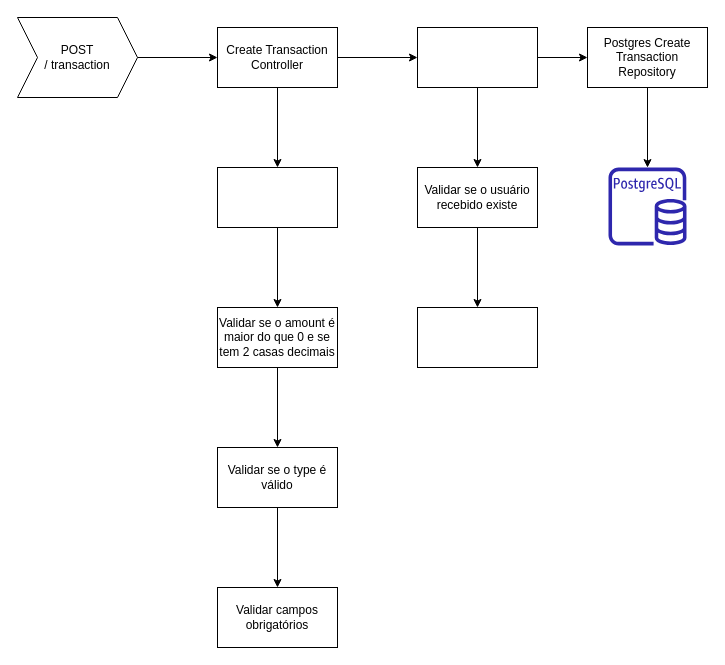
This 725x665 diagram has some shape labels left out. The box of each missing label's shape, as (x1, y1, x2, y2) in pixels:
Create Transaction Use Case: (416, 26, 538, 88)
Criar ID da transaction: (416, 306, 538, 368)
Validar se o ID do usuário é válido: (216, 166, 338, 228)
